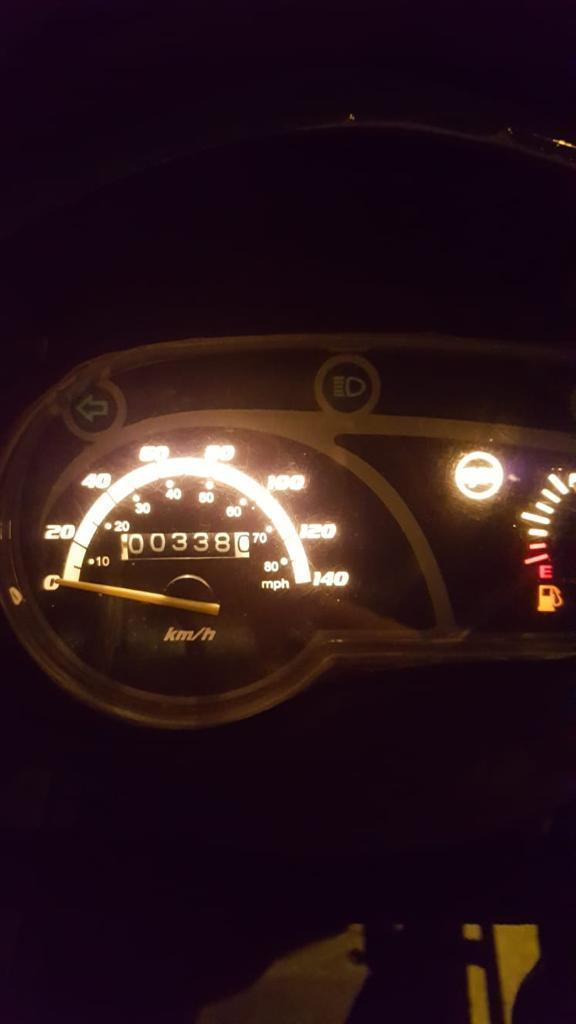0: (149, 529, 166, 553), (129, 532, 144, 556), (238, 532, 250, 555)
3: (193, 530, 210, 554), (171, 531, 187, 552)
8: (214, 531, 231, 555)
odometer: (117, 528, 254, 563)
